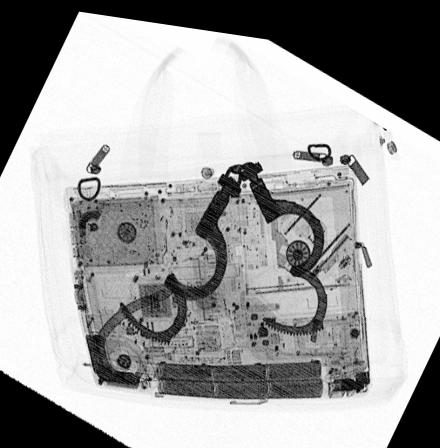HandCuffs: (117, 154, 328, 338)
